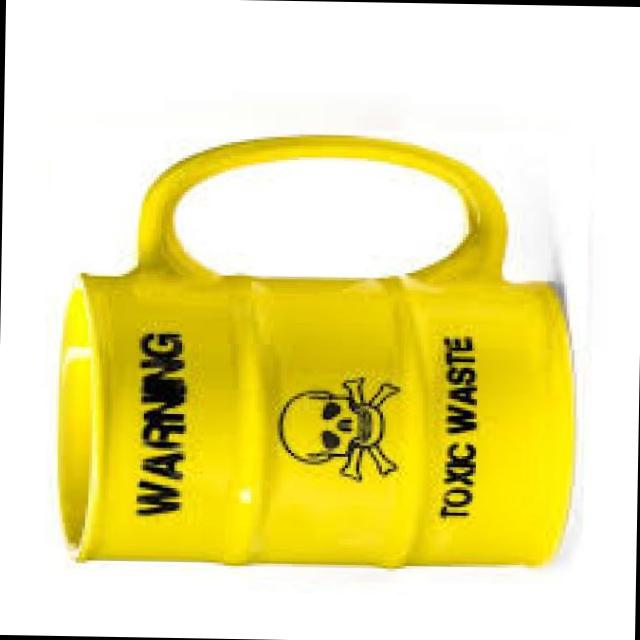Coffee Mug: (54, 128, 577, 574)
